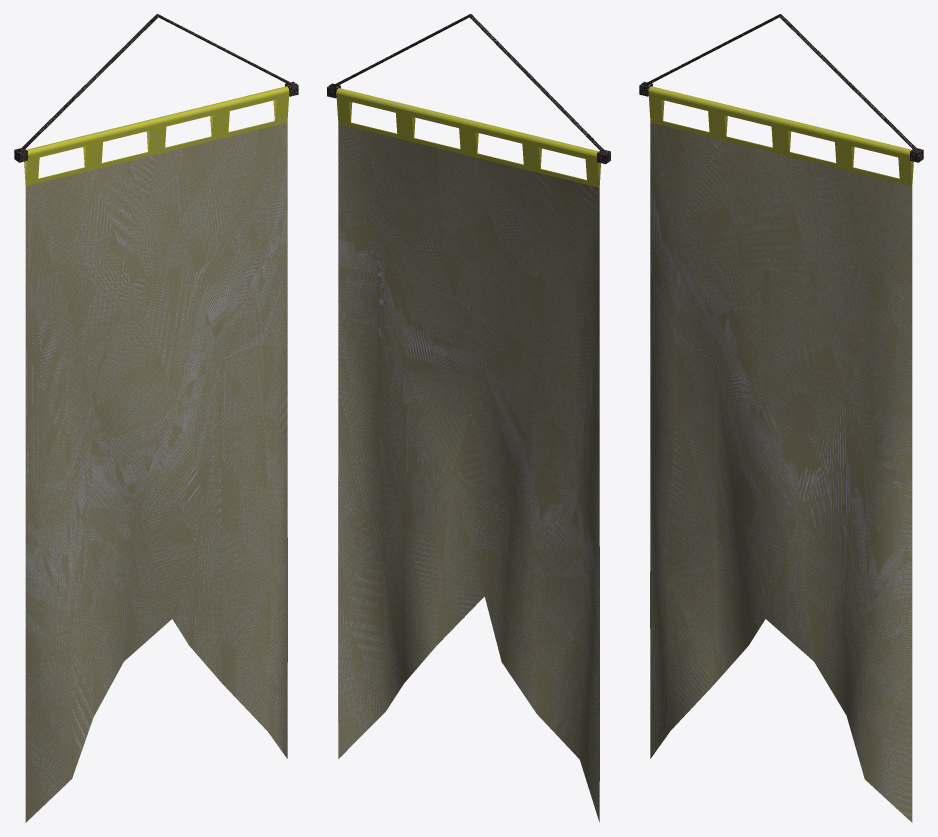
Rendered from ACC_FLAG_001.fbx.
3 renders of one model, left to right at view 1: azimuth 30°, elevation 25°; view 2: azimuth 150°, elevation 25°; view 3: azimuth 330°, elevation 25°, orthographic.
Visible parts, largest first — view 1: Group1, Group7, Group5; view 2: Group1, Group7, Group5; view 3: Group1, Group7, Group5.
Part boxes in pixels (bbox=[...]): Group1: bbox=[25, 122, 287, 822]; Group7: bbox=[24, 86, 289, 186]; Group5: bbox=[19, 14, 293, 151]; Group1: bbox=[338, 124, 599, 822]; Group7: bbox=[336, 88, 600, 187]; Group5: bbox=[331, 14, 605, 152]; Group1: bbox=[650, 122, 912, 822]; Group7: bbox=[648, 86, 913, 186]; Group5: bbox=[644, 14, 918, 151].
Bounding box in the file's own units: 31.64 × 84.13 × 3.61.
